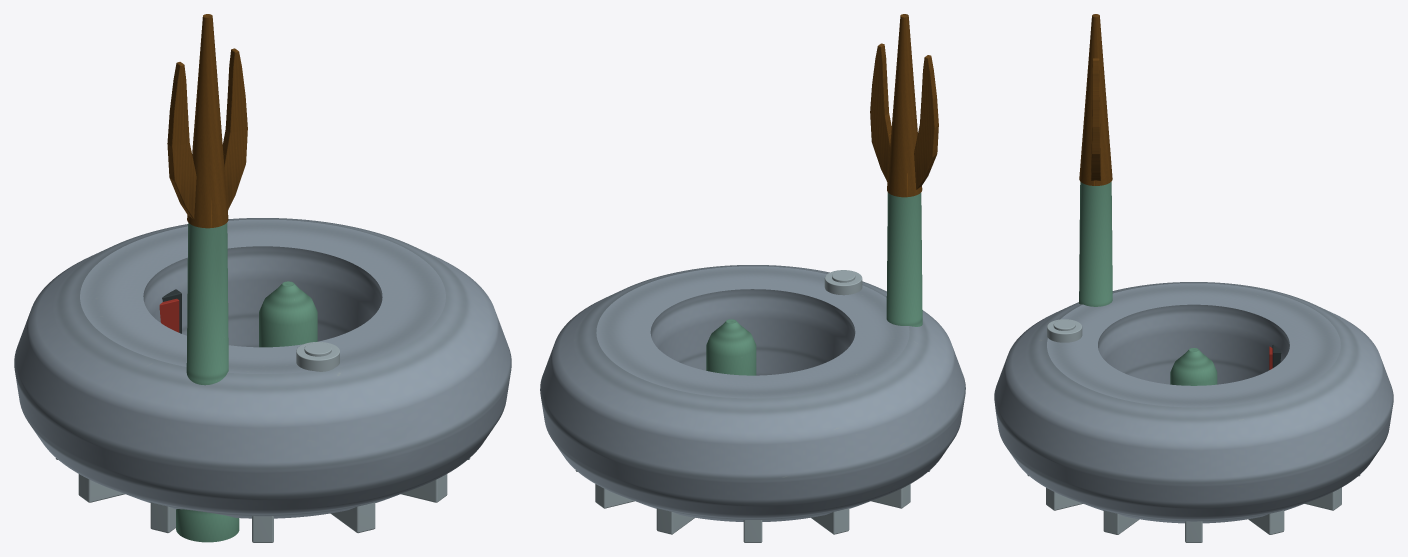
3 renders of one model, left to right at view 1: azimuth 30°, elevation 25°; view 2: azimuth 150°, elevation 25°; view 3: azimuth 270°, elevation 25°, orthographic. The views are drawn at different scales.
Parts seen in each view (by area): view 1: RI17 annular factory casing, RI17 green mast, RI17 refined crown central stem, RI17 green interior unit, RI17 refined crown arm left, RI17 refined crown arm right, RI17 underside rib 9, RI17 front roof fitting bezel, RI17 underside rib 6, RI17 underside rib 10, RI17 underside rib 7, RI17 underside rib 8; view 2: RI17 annular factory casing, RI17 green mast, RI17 refined crown central stem, RI17 green interior unit, RI17 refined crown arm left, RI17 refined crown arm right, RI17 underside rib 3, RI17 underside rib 5, RI17 front roof fitting bezel, RI17 underside rib 6, RI17 underside rib 2; view 3: RI17 annular factory casing, RI17 green mast, RI17 refined crown central stem, RI17 green interior unit, RI17 refined crown arm right, RI17 underside rib 1, RI17 underside rib 11, RI17 front roof fitting bezel.
Boxes of the visible parts, bbox=[...] form: RI17 annular factory casing: bbox=[14, 218, 511, 518]; RI17 green mast: bbox=[176, 223, 239, 542]; RI17 refined crown central stem: bbox=[187, 14, 228, 228]; RI17 green interior unit: bbox=[259, 281, 317, 347]; RI17 refined crown arm left: bbox=[167, 62, 196, 219]; RI17 refined crown arm right: bbox=[222, 48, 247, 210]; RI17 underside rib 9: bbox=[330, 502, 375, 533]; RI17 front roof fitting bezel: bbox=[296, 342, 339, 371]; RI17 underside rib 6: bbox=[78, 474, 124, 502]; RI17 underside rib 10: bbox=[401, 474, 447, 502]; RI17 underside rib 7: bbox=[150, 502, 175, 533]; RI17 underside rib 8: bbox=[252, 516, 273, 542]; RI17 annular factory casing: bbox=[540, 265, 965, 521]; RI17 green mast: bbox=[886, 192, 922, 326]; RI17 refined crown central stem: bbox=[887, 14, 922, 197]; RI17 green interior unit: bbox=[706, 319, 756, 375]; RI17 refined crown arm left: bbox=[914, 55, 938, 189]; RI17 refined crown arm right: bbox=[870, 43, 891, 181]; RI17 underside rib 3: bbox=[656, 508, 694, 534]; RI17 underside rib 5: bbox=[811, 508, 849, 534]; RI17 front roof fitting bezel: bbox=[824, 270, 862, 295]; RI17 underside rib 6: bbox=[871, 484, 910, 508]; RI17 underside rib 2: bbox=[595, 484, 634, 508]; RI17 annular factory casing: bbox=[994, 282, 1393, 523]; RI17 green mast: bbox=[1079, 182, 1112, 306]; RI17 refined crown central stem: bbox=[1079, 14, 1112, 185]; RI17 green interior unit: bbox=[1170, 348, 1217, 385]; RI17 refined crown arm right: bbox=[1091, 58, 1100, 180]; RI17 underside rib 1: bbox=[1248, 510, 1284, 534]; RI17 underside rib 11: bbox=[1103, 510, 1139, 534]; RI17 front roof fitting bezel: bbox=[1047, 319, 1082, 342].
Size of the model in its own units: 2.04 by 2.32 by 2.04.
Materials: 8 (5 with a texture image).
